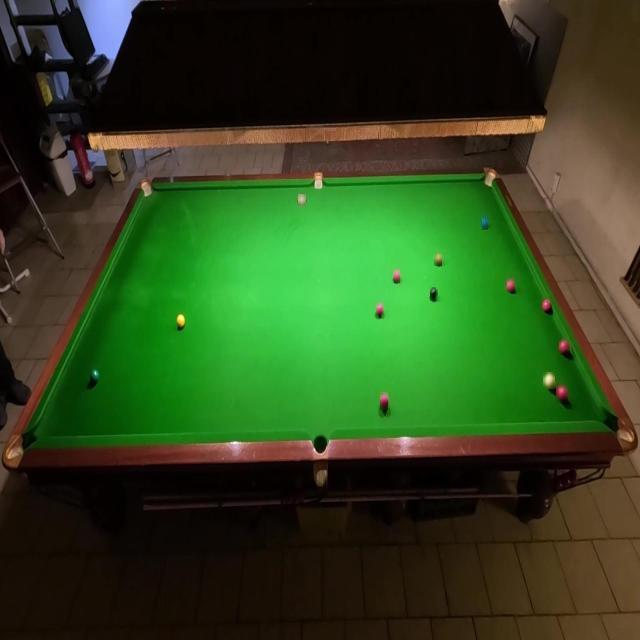Ball: (556, 384, 568, 404), (544, 372, 556, 389), (560, 340, 570, 356), (89, 368, 99, 383), (176, 314, 186, 328), (376, 302, 384, 318), (381, 392, 388, 410), (542, 298, 551, 312), (507, 278, 515, 292), (430, 287, 438, 301), (298, 194, 306, 206), (434, 254, 442, 266), (394, 270, 400, 283), (482, 218, 488, 230)
